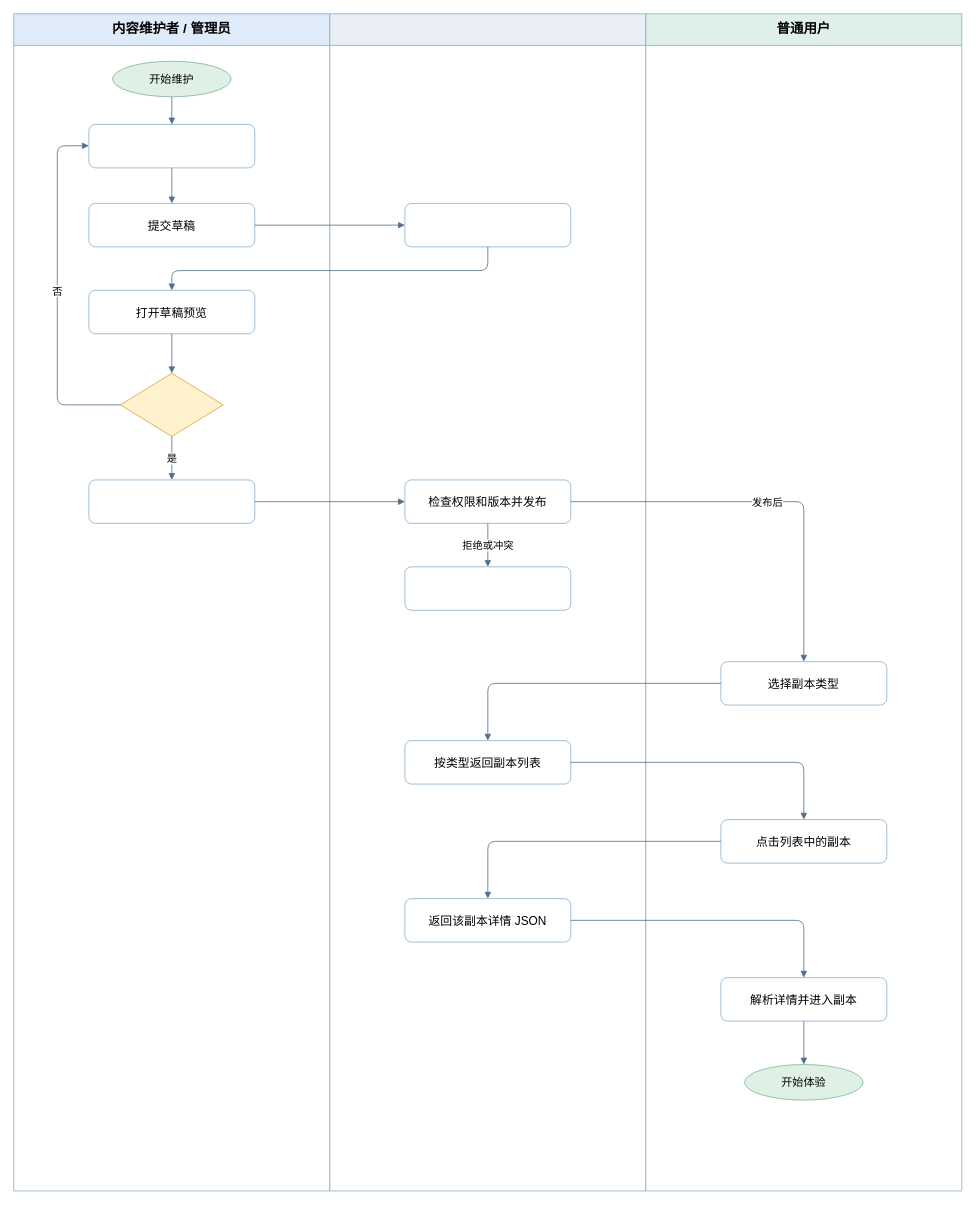
The diagram is 976 pixels wide and 1205 high, and some of its shapes have lost their labels. The box of each missing label's shape, as (x1, y1, x2, y2) in pixels:
保存草稿和版本: (404, 203, 571, 247)
内容确认？: (120, 372, 223, 436)
副本配置服务: (329, 13, 646, 1191)
提交发布: (88, 479, 255, 523)
提示保存或发布失败: (404, 566, 571, 610)
编辑副本内容与素材: (88, 124, 255, 168)
